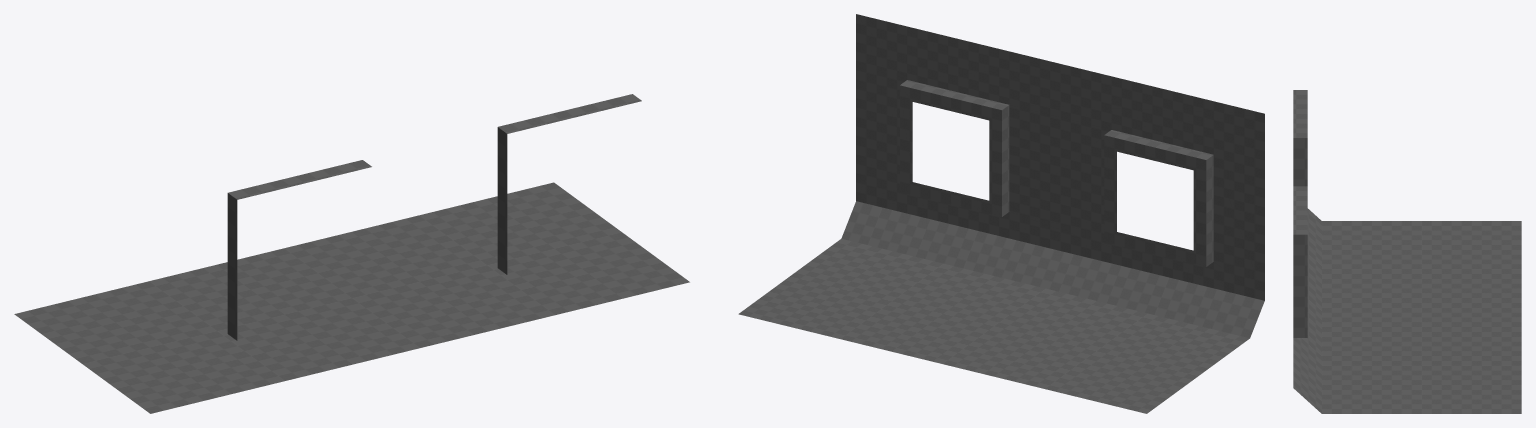
The picture shows the model from 3 angles, left to right: view 1: azimuth 30°, elevation 25°; view 2: azimuth 150°, elevation 25°; view 3: azimuth 270°, elevation 25°; orthographic projection. The views are drawn at different scales.
Parts seen in each view (by area): view 1: CubeInUpBackV2; view 2: CubeInUpBackV2; view 3: CubeInUpBackV2.
Part boxes in pixels (box(x1,y1,x2,y2)): CubeInUpBackV2: box(14, 94, 689, 413); CubeInUpBackV2: box(738, 14, 1264, 413); CubeInUpBackV2: box(1293, 90, 1521, 413).
Bounding box in the file's own units: 4 × 2 × 2.
1 material, 1 textured.
